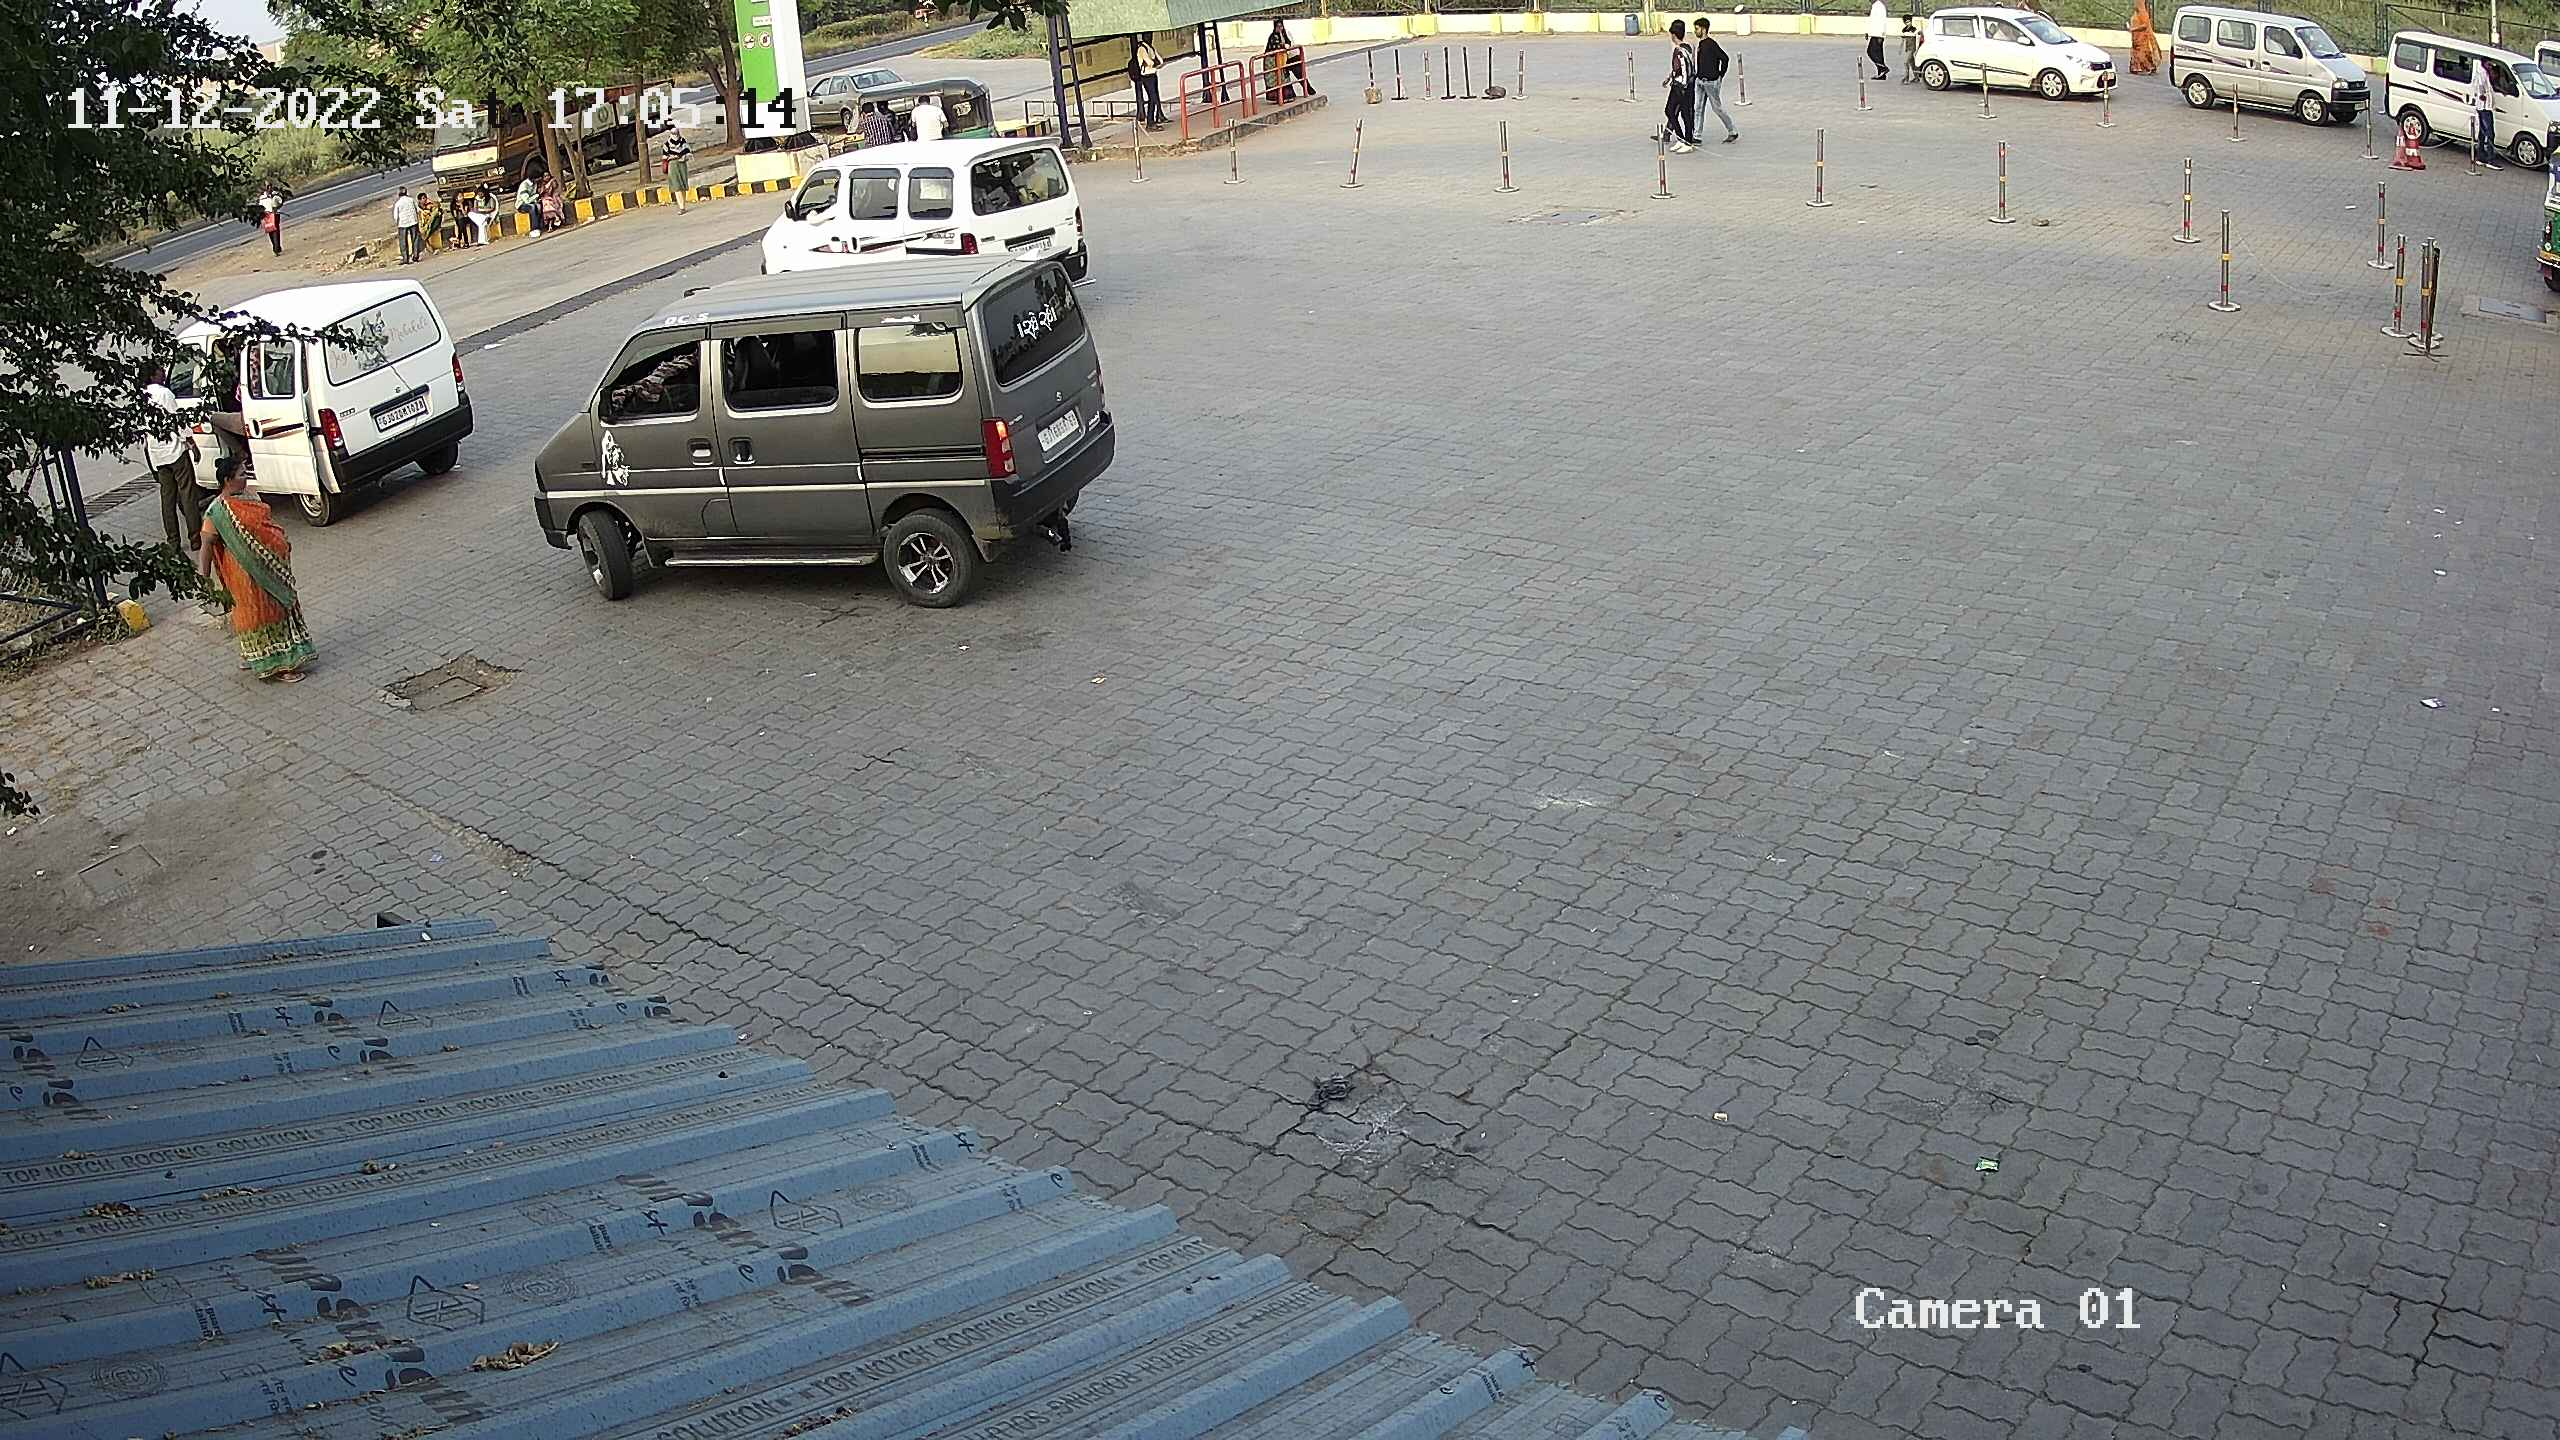Auto: (811, 67, 1002, 164), (2525, 93, 2560, 322)
Car: (520, 243, 1124, 619), (127, 273, 487, 535), (745, 134, 1095, 301), (1885, 0, 2129, 118), (2163, 4, 2375, 132), (2374, 23, 2558, 169), (796, 55, 907, 139)
HMV: (420, 53, 556, 223)
